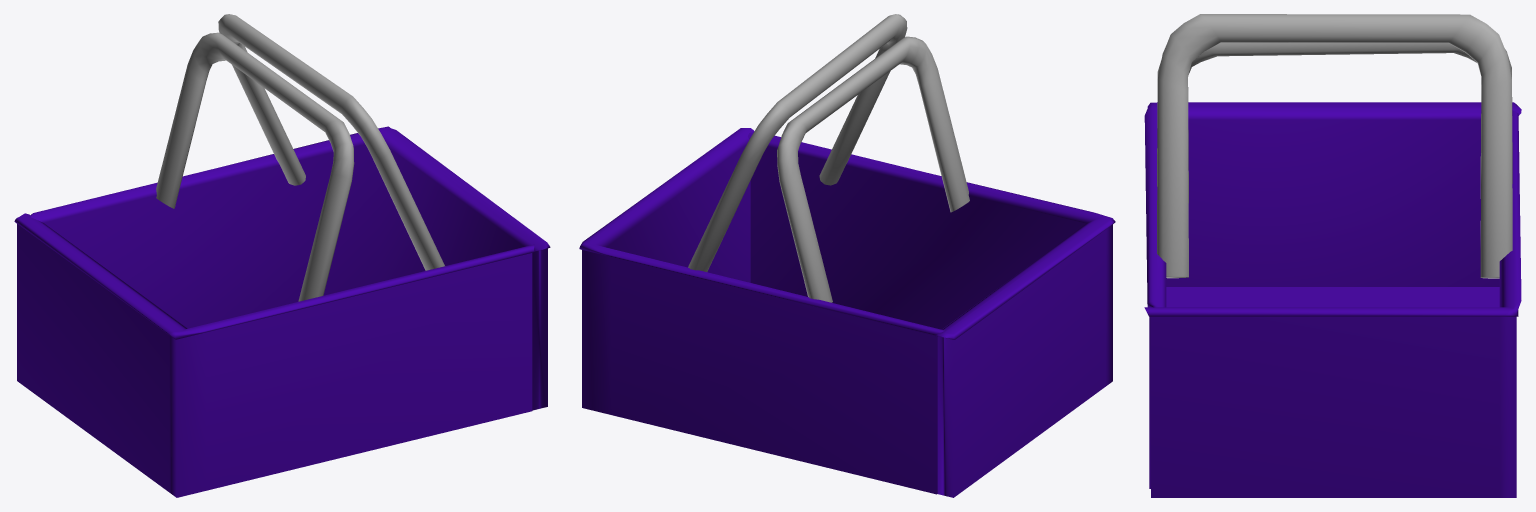
The model's file is Cartfb2.fbx.
3 renders of one model, left to right at view 1: azimuth 30°, elevation 25°; view 2: azimuth 150°, elevation 25°; view 3: azimuth 270°, elevation 25°, orthographic. The views are drawn at different scales.
Parts seen in each view (by area): view 1: polySurface6; view 2: polySurface6; view 3: polySurface6.
Part boxes in pixels (x1,y1,x2,y2): polySurface6: (14,14,550,497); polySurface6: (579,14,1115,497); polySurface6: (1144,14,1521,497).
Size of the model in its own units: 29.6 by 25.18 by 22.27.
